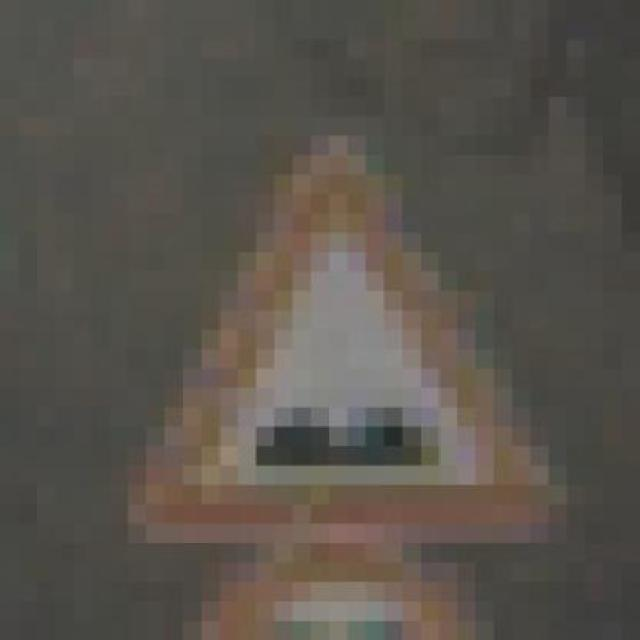Uneven Road: (92, 116, 586, 544)
